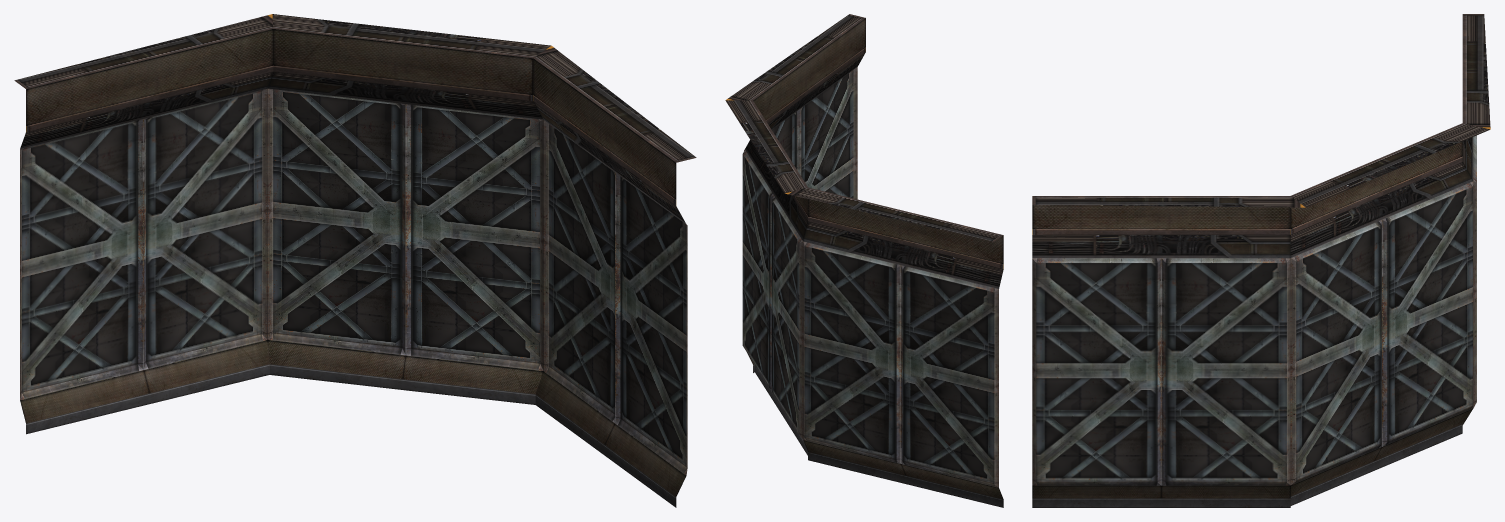
Rendered from Wall_Ware_new04.fbx.
3 views of the same model, side by side, from view 1: azimuth 30°, elevation 25°; view 2: azimuth 150°, elevation 25°; view 3: azimuth 270°, elevation 25° (orthographic). The views are drawn at different scales.
Visible parts, largest first — view 1: Wall_Ware_new04; view 2: Wall_Ware_new04; view 3: Wall_Ware_new04.
Part boxes in pixels (x1=…): Wall_Ware_new04: x1=14, y1=14, x2=696, y2=507; Wall_Ware_new04: x1=725, y1=14, x2=1003, y2=507; Wall_Ware_new04: x1=1032, y1=14, x2=1490, y2=507.
Size of the model in its own units: 532 by 400 by 532.
1 material, 1 textured.
